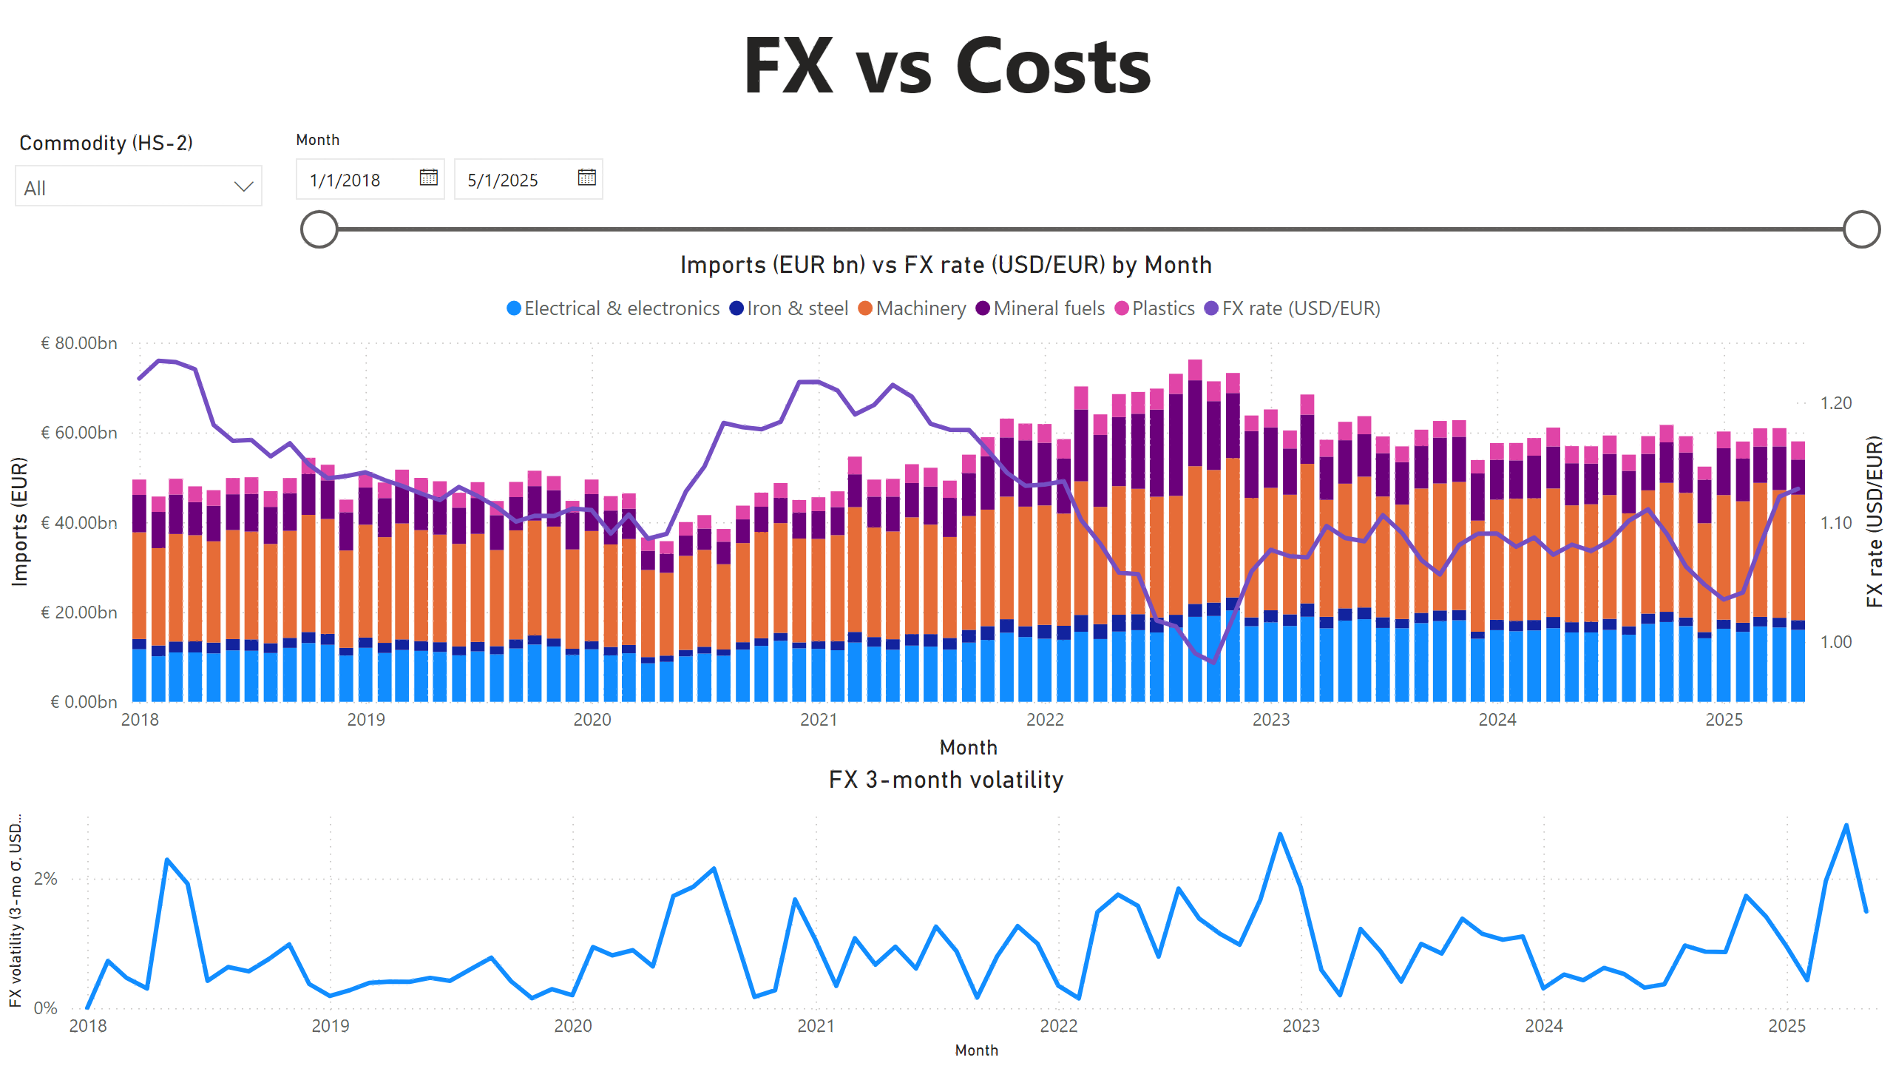

Layout of this report page (visuals, bound fields, positions):
{"tool":"powerbi","page":{"name":"FX vs Costs","canvas":[1280,720],"ordinal":1},"visuals":[{"type":"lineStackedColumnComboChart","title":"Imports (EUR bn) vs FX rate (USD/EUR) by Month","fields":{"Category":["gold_monthly_metrics.month"],"Y2":["Avg(gold_monthly_metrics.USD_per_EUR)"],"Y":["Sum(gold_monthly_metrics.import_eur)"],"Series":["gold_monthly_metrics.cmdDesc"]},"box":[0,168.5,1280,348.7],"z":0},{"type":"lineChart","title":"FX 3-month volatility","fields":{"Category":["gold_monthly_metrics.month"],"Y":["Avg(gold_monthly_metrics.fx_vol_3m)"]},"box":[0,517.2,1280,203.4],"z":1000},{"type":"slicer","fields":{"Values":["gold_monthly_metrics.cmdDesc"]},"box":[0,82.8,187.4,85.7],"z":2000},{"type":"slicer","fields":{"Values":["gold_monthly_metrics.month"]},"box":[187.4,82.8,1092.6,85.7],"z":3000},{"type":"textbox","box":[0,0,1280,82.8],"z":4000}]}

Visuals, with their boxes in screenshot pixels (x1, y1, x2, y2), scaled from the page's 1280x720 canvas onto the 1894x1080 screenshot:
"Imports (EUR bn) vs FX rate (USD/EUR) by Month" lineStackedColumnComboChart: <box>0,253,1893,776</box>
"FX 3-month volatility" lineChart: <box>0,776,1893,1079</box>
slicer - gold_monthly_metrics.cmdDesc: <box>0,124,277,253</box>
slicer - gold_monthly_metrics.month: <box>277,124,1893,253</box>
textbox: <box>0,0,1893,124</box>
